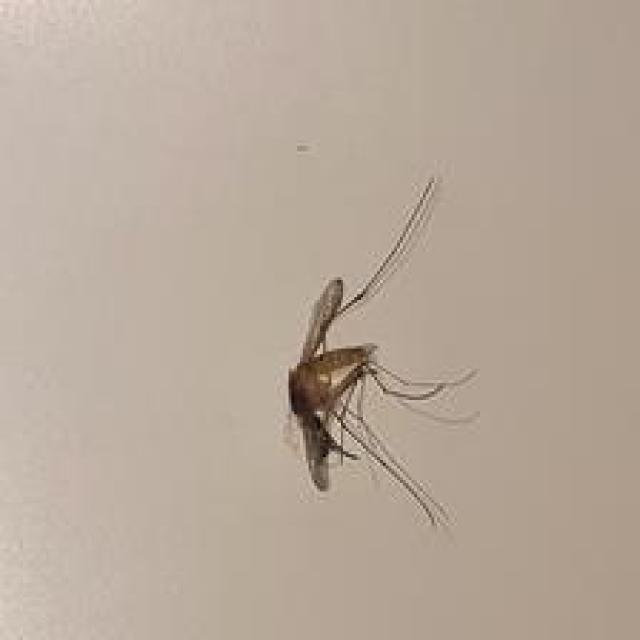Culex: (282, 173, 482, 530)
